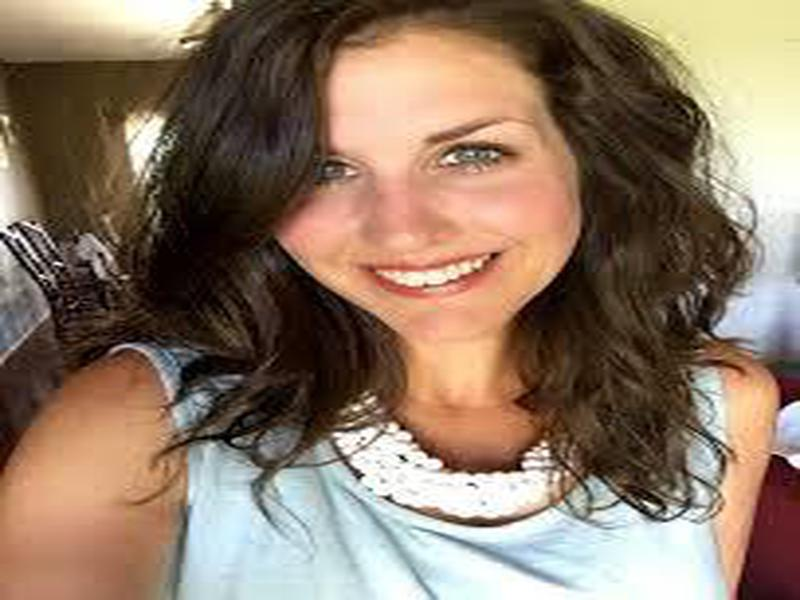without_mask: (272, 74, 580, 329)
